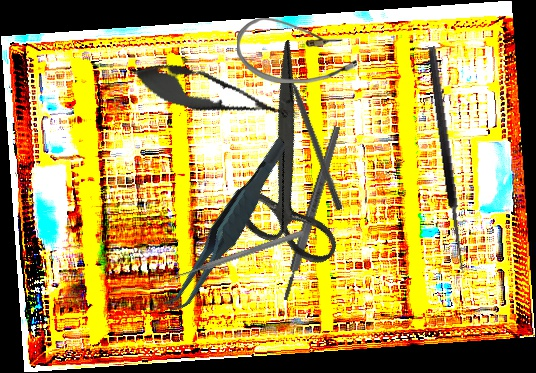Cannula: (237, 18, 357, 83)
Hook Surgical: (425, 44, 479, 274)
Iris Scissors: (172, 39, 404, 287)
Micro Scissor: (124, 52, 305, 136)
Pusher: (282, 60, 345, 211), (169, 228, 305, 283)
Scalpel Handle: (279, 125, 344, 302)
Tissue Forceps: (135, 137, 319, 317)
